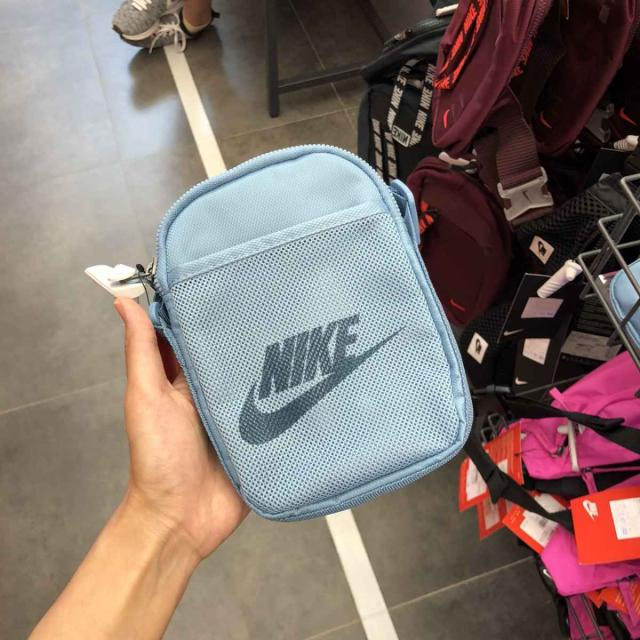Handbag: (147, 144, 476, 522)
